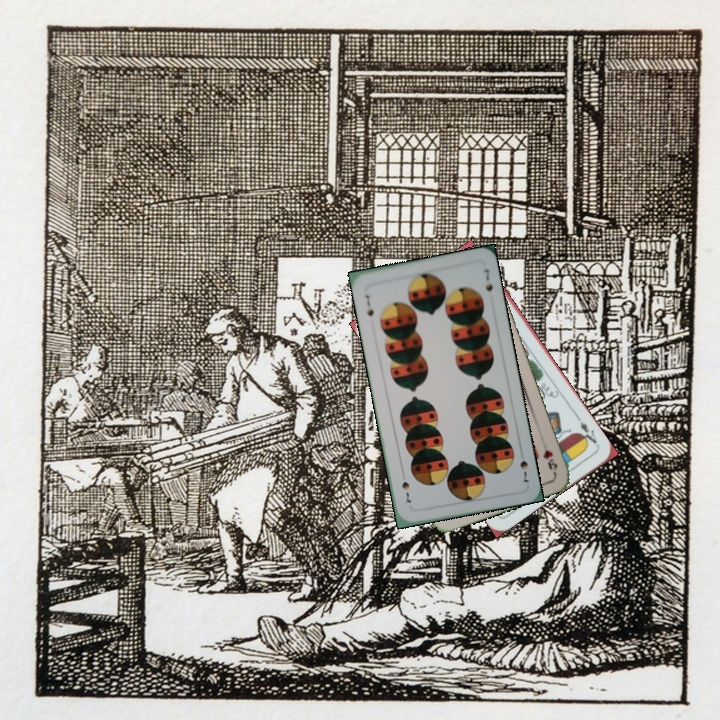EA: (573, 413, 601, 449)
H9: (538, 437, 560, 477)
S7: (516, 456, 532, 485), (361, 291, 376, 319)
